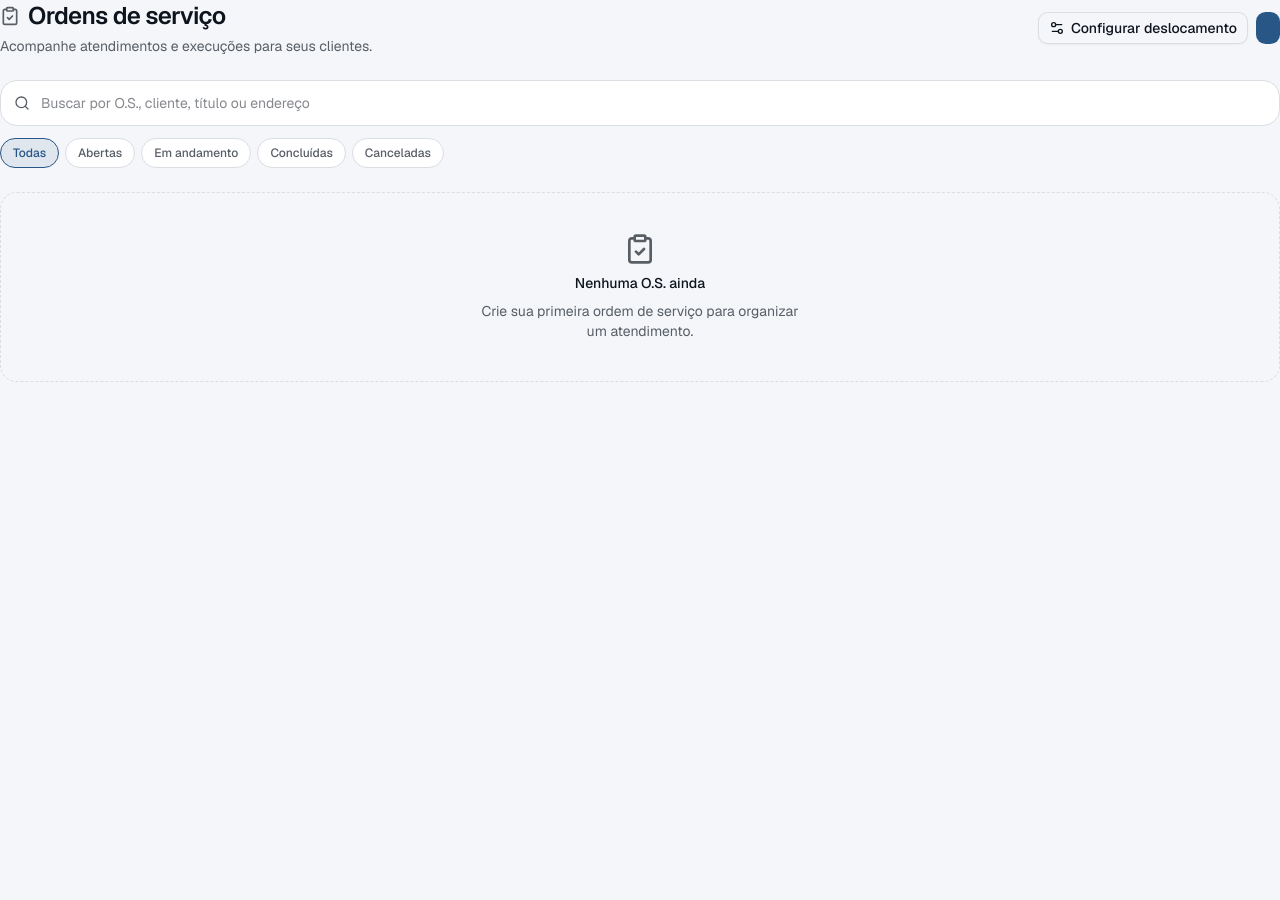
Test case: ServiceOrderList › L12: 'Configurar deslocamento' opens the travel-fee settings dialog
Expected: the text "Nenhuma O.S. ainda" is shown, [575,273,705,293]
Click the button "Configurar deslocamento". click: (1143, 28)
box: [1038,12,1248,44]
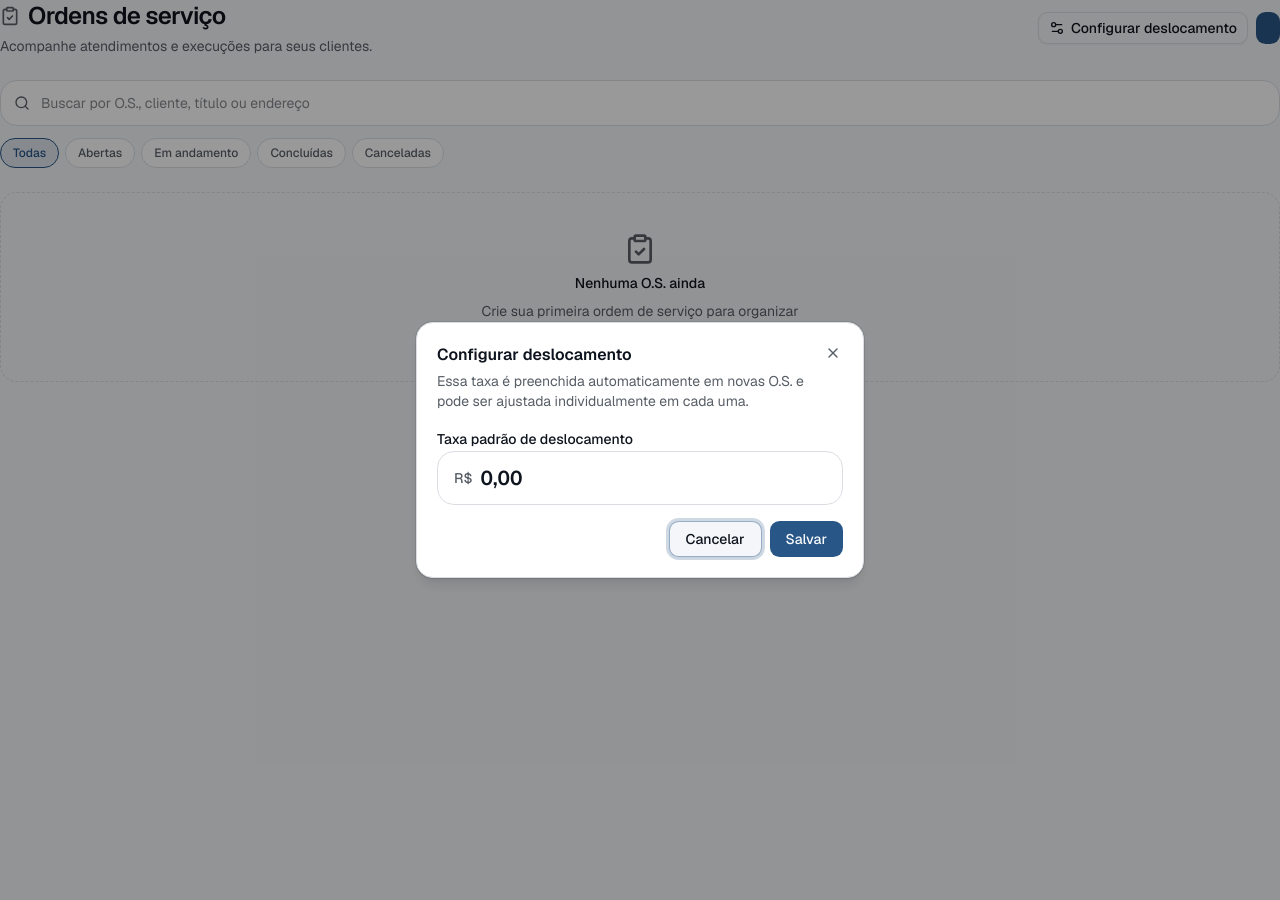
Expected: the text "preenchida automaticamente" is shown, [437,372,804,410]
